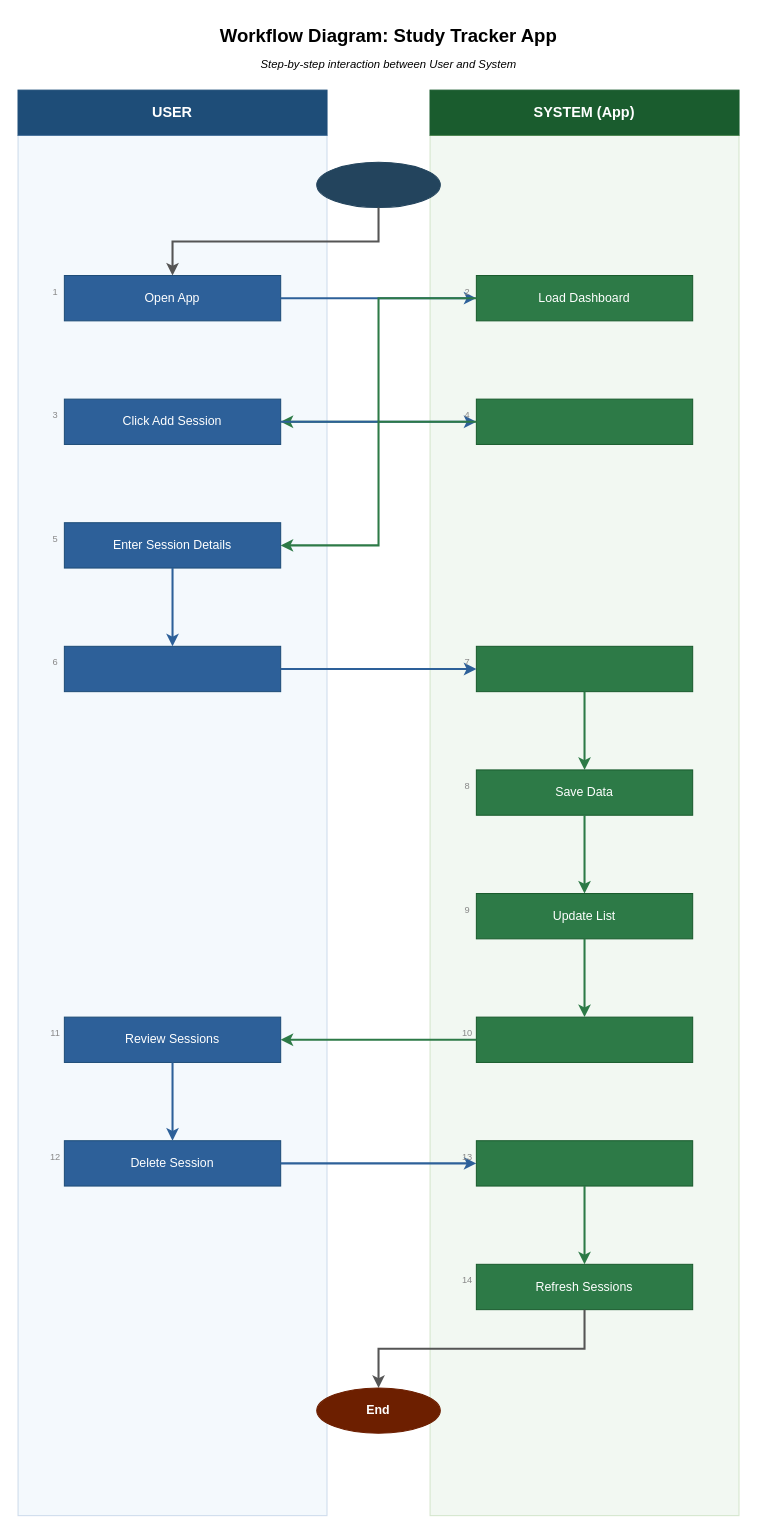
The diagram is 757 pixels wide and 1534 high, and some of its shapes have lost their labels. Here are the shapes that lost their labels. From the top down, the centre of each, then its label:
the point at 378,184: Start
the point at 584,421: Show Input Form
the point at 172,668: Click Save
the point at 584,668: Validate Input
the point at 584,1039: Display Sessions
the point at 584,1163: Remove Session
